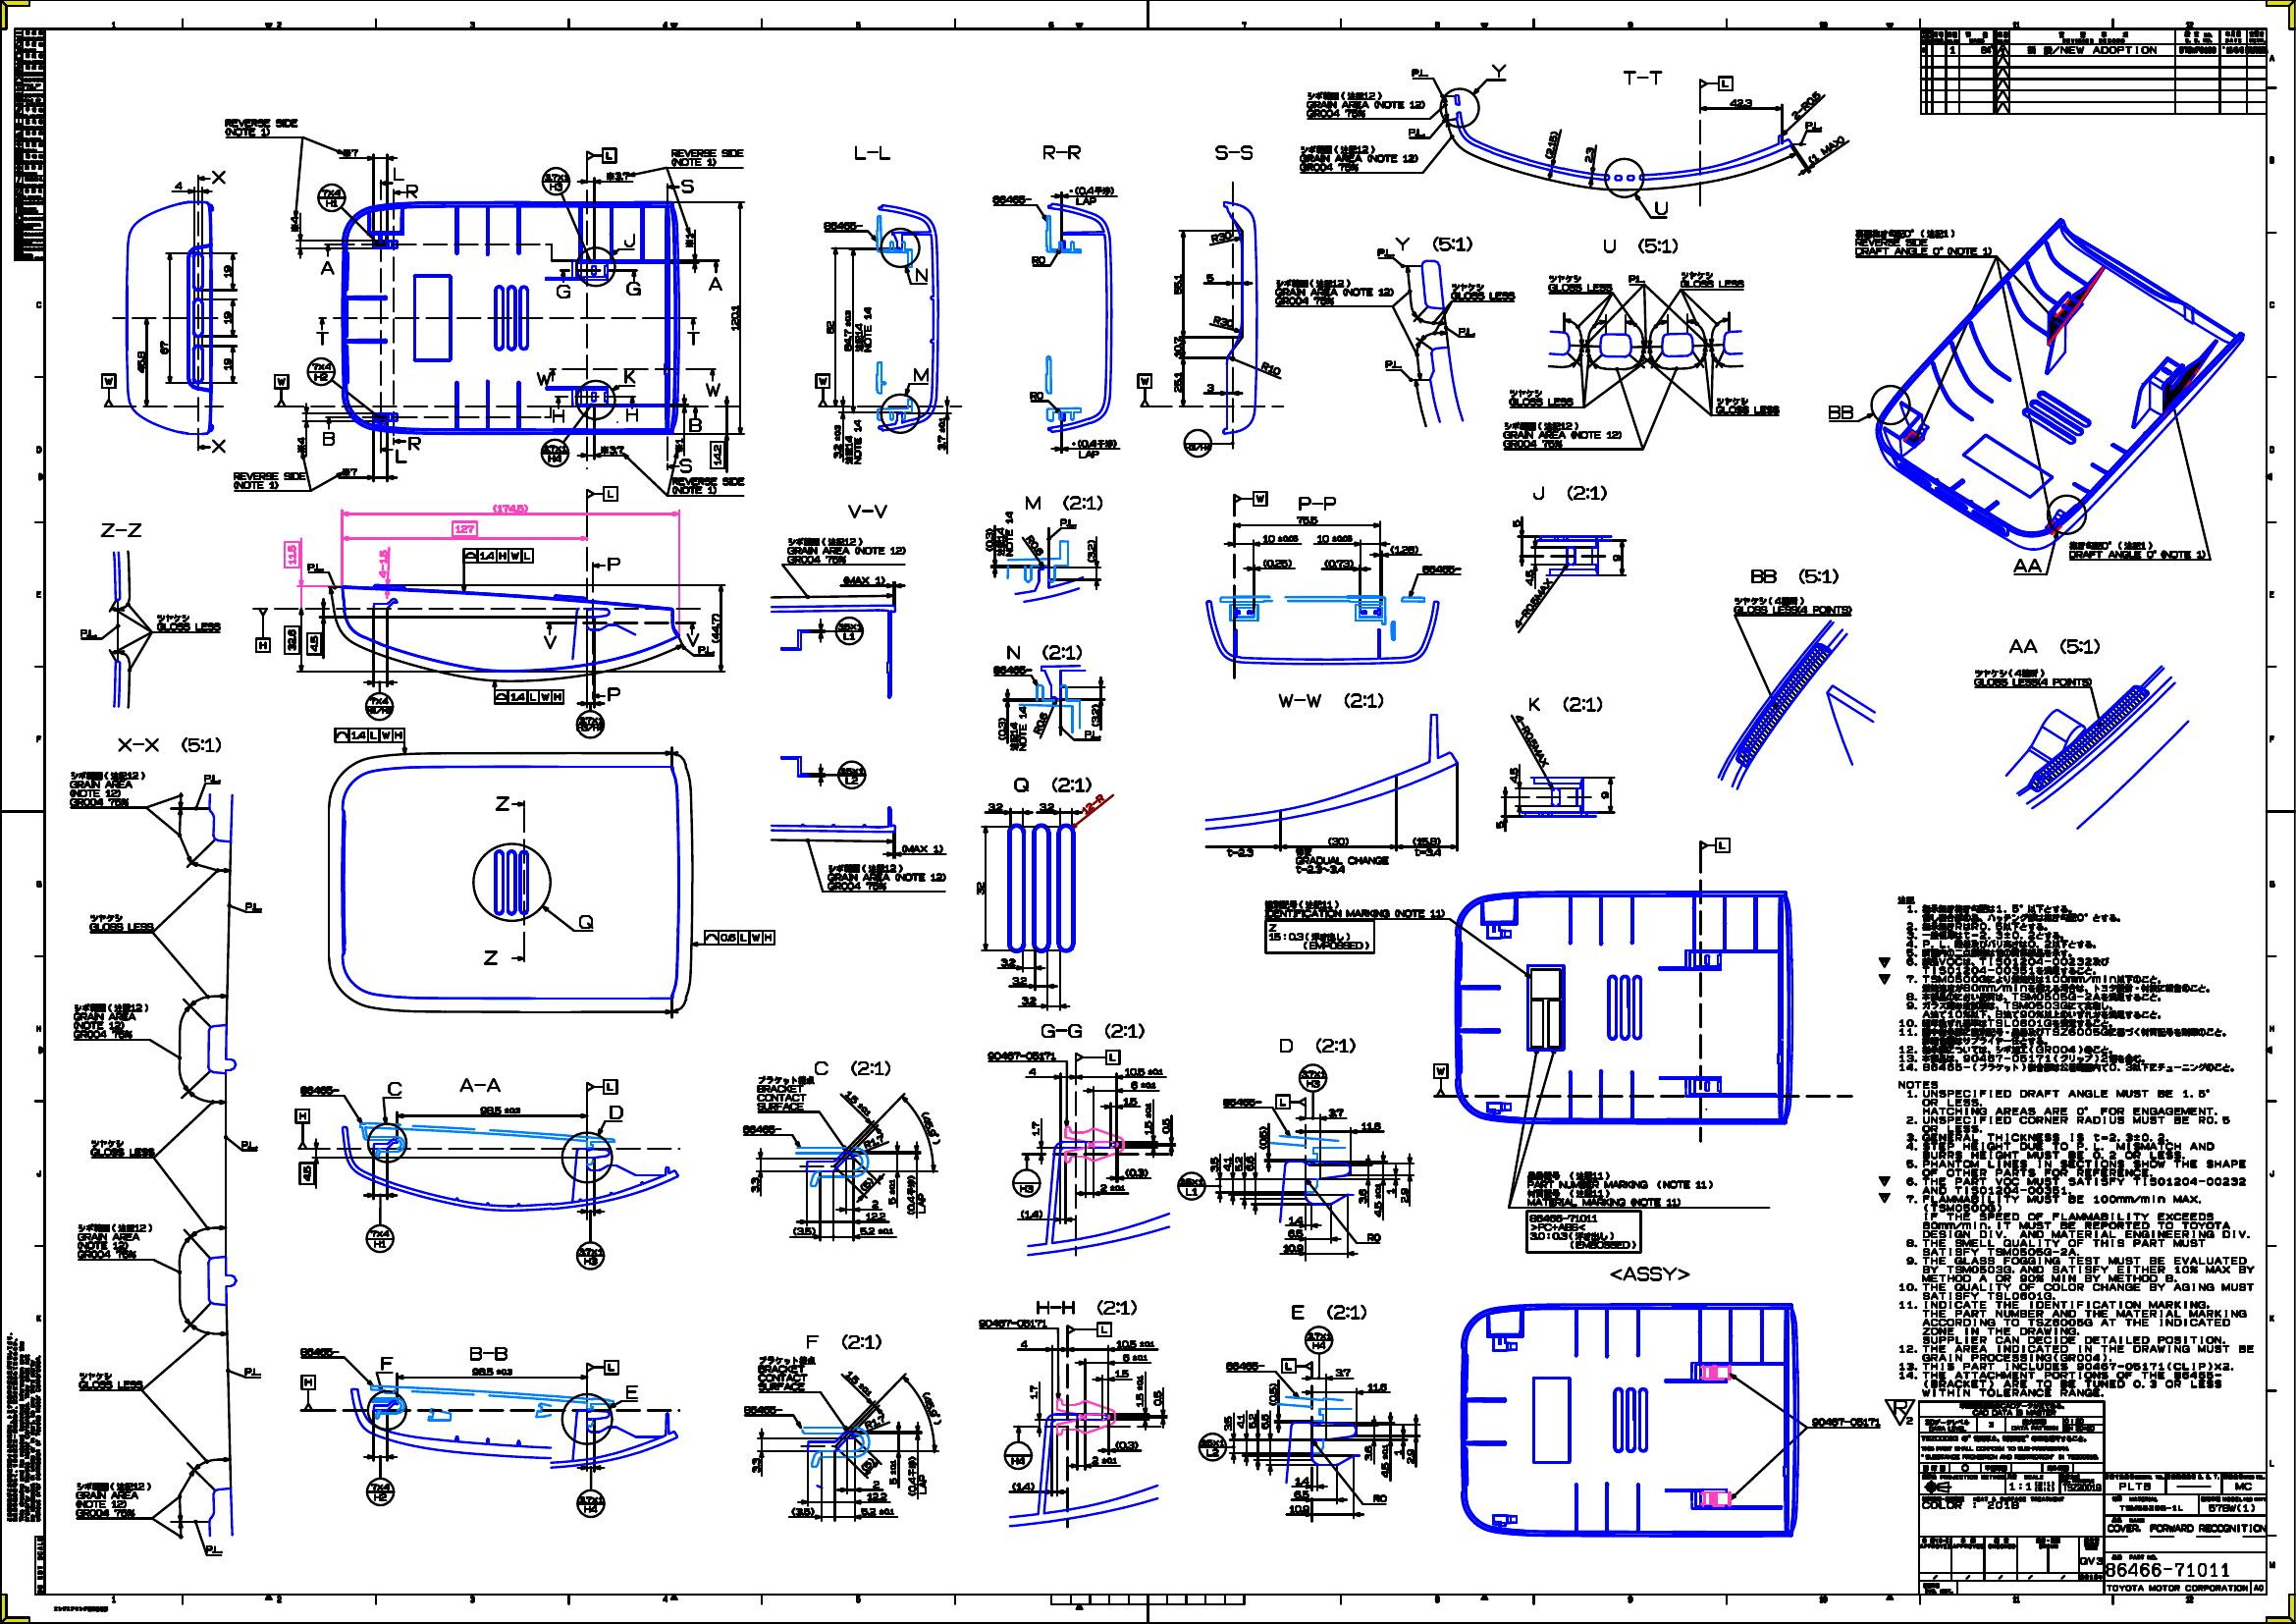anntotation_text: (1874, 1076, 2259, 1397), (1874, 891, 2240, 1074), (1525, 1169, 1718, 1207), (5, 1329, 42, 1522), (1525, 1211, 1641, 1251), (1853, 227, 1994, 257), (1265, 898, 1448, 919), (824, 861, 947, 891), (1274, 278, 1393, 308), (785, 536, 906, 564), (1298, 144, 1419, 172), (1305, 90, 1426, 118), (1265, 921, 1372, 953), (1502, 422, 1625, 448), (74, 1478, 151, 1519), (77, 1220, 155, 1260), (69, 768, 148, 807), (72, 1002, 149, 1039), (2068, 540, 2206, 559), (1291, 847, 1391, 874), (1971, 666, 2094, 687), (1732, 594, 1852, 615), (1038, 1019, 1147, 1042), (114, 735, 221, 758), (755, 1353, 815, 1392), (755, 1076, 815, 1111), (1279, 691, 1383, 710), (1035, 1297, 1137, 1316), (1748, 564, 1839, 585), (2004, 638, 2103, 657), (1391, 232, 1474, 255), (1022, 492, 1103, 515), (1525, 692, 1606, 715), (669, 146, 745, 169), (812, 1058, 892, 1079), (1005, 642, 1084, 663), (805, 1332, 884, 1353), (1607, 1264, 1693, 1283), (1532, 483, 1607, 504), (223, 116, 299, 137), (1288, 1302, 1368, 1322), (1602, 237, 1679, 257), (230, 471, 307, 490), (1008, 775, 1093, 793), (1275, 1037, 1356, 1055), (88, 910, 155, 932), (1449, 281, 1516, 302), (671, 476, 743, 496), (1507, 388, 1581, 406), (1715, 395, 1781, 415), (1679, 269, 1746, 288), (462, 547, 534, 564), (1548, 272, 1613, 292), (304, 350, 336, 388), (155, 613, 221, 631), (1066, 185, 1121, 206), (77, 1371, 142, 1388), (90, 1139, 155, 1156), (332, 726, 404, 742), (1068, 438, 1121, 459), (704, 928, 775, 944), (1007, 705, 1029, 752), (905, 1174, 929, 1218), (833, 613, 866, 645), (1296, 1062, 1330, 1093), (836, 758, 870, 789), (360, 691, 395, 721), (1883, 1396, 1915, 1427), (541, 163, 571, 197), (1498, 735, 1569, 749), (996, 508, 1015, 559), (494, 689, 562, 703), (843, 417, 863, 466), (365, 1475, 395, 1506), (1010, 1167, 1040, 1199), (1808, 1415, 1883, 1427), (906, 1454, 928, 1497), (97, 522, 148, 540), (574, 708, 604, 738), (1003, 1439, 1033, 1469), (1175, 1171, 1205, 1200), (364, 1222, 393, 1251), (318, 181, 346, 213), (574, 1489, 606, 1517), (986, 1048, 1058, 1060), (854, 306, 873, 352), (1295, 494, 1339, 513), (1182, 429, 1212, 457), (539, 438, 569, 466), (1196, 1432, 1226, 1461), (576, 1241, 606, 1269), (845, 501, 891, 518), (1621, 69, 1667, 86), (1305, 1325, 1333, 1353), (1214, 144, 1254, 163), (1042, 142, 1082, 162), (852, 142, 892, 162), (458, 1076, 499, 1095), (255, 606, 271, 652), (1075, 1049, 1119, 1065), (1502, 598, 1563, 608), (899, 840, 945, 854), (741, 1403, 787, 1417), (978, 1318, 1049, 1327), (469, 1346, 508, 1362), (53, 1603, 109, 1613), (1068, 1322, 1110, 1336), (841, 573, 887, 585), (272, 371, 288, 406), (2013, 555, 2041, 575), (1806, 144, 1850, 156), (100, 373, 116, 406), (35, 1536, 44, 1596), (991, 193, 1033, 206), (300, 1374, 314, 1411), (1825, 404, 1857, 420), (585, 148, 617, 163), (1421, 562, 1462, 575), (822, 220, 863, 232), (295, 1109, 307, 1149), (815, 374, 829, 408), (587, 1360, 620, 1374), (297, 1083, 341, 1093), (299, 1346, 341, 1357), (1699, 838, 1730, 852), (1433, 1063, 1448, 1095), (741, 1123, 783, 1134), (1233, 490, 1268, 503), (991, 664, 1031, 675), (1224, 1360, 1265, 1371), (1223, 1097, 1263, 1107), (587, 1079, 617, 1093), (1699, 77, 1732, 90), (1138, 373, 1151, 406), (587, 487, 618, 499), (1281, 1359, 1312, 1371), (1275, 1093, 1307, 1106), (481, 947, 501, 967), (1651, 199, 1672, 216), (320, 257, 336, 279), (1490, 62, 1509, 79), (620, 367, 638, 387), (211, 167, 228, 186), (376, 1355, 393, 1374), (608, 1102, 625, 1121), (578, 910, 596, 930), (494, 793, 511, 812), (706, 274, 724, 292), (320, 429, 337, 446), (244, 898, 264, 914), (703, 381, 722, 397), (390, 163, 406, 183), (624, 1383, 639, 1403), (541, 634, 559, 650), (913, 366, 929, 383), (534, 371, 552, 387), (211, 436, 227, 453), (622, 230, 636, 250), (242, 1366, 264, 1378), (79, 626, 100, 638), (1383, 359, 1404, 371), (1409, 67, 1430, 79), (604, 555, 620, 571), (687, 417, 703, 432), (557, 283, 573, 299), (313, 329, 329, 344), (604, 685, 622, 700), (680, 178, 694, 195), (627, 279, 641, 297), (239, 1139, 262, 1149), (304, 562, 327, 573), (1058, 517, 1077, 529), (625, 406, 638, 425), (204, 1543, 225, 1554), (202, 772, 223, 782), (1082, 728, 1103, 738), (1456, 325, 1477, 336), (1627, 272, 1648, 283), (1407, 127, 1428, 137), (913, 267, 928, 283), (552, 408, 566, 424), (406, 436, 422, 450), (406, 183, 420, 199), (388, 1079, 402, 1095), (395, 448, 408, 466), (1375, 246, 1395, 257), (687, 633, 701, 647), (687, 330, 701, 344), (1806, 120, 1822, 130), (680, 457, 690, 473), (696, 647, 715, 652)
dimension_text: (708, 439, 727, 469), (841, 306, 852, 355), (469, 1366, 516, 1376), (1377, 1441, 1390, 1480), (492, 501, 531, 513), (283, 626, 299, 656), (710, 610, 722, 647), (859, 1504, 894, 1517), (480, 1104, 520, 1114), (1123, 1067, 1163, 1077), (1260, 533, 1300, 543), (1314, 533, 1354, 543), (936, 413, 947, 453), (285, 541, 300, 568), (1133, 1373, 1145, 1406), (1077, 798, 1110, 810), (857, 1225, 896, 1236), (912, 1401, 950, 1411), (1788, 98, 1827, 109), (833, 424, 843, 462), (838, 1098, 875, 1109), (376, 548, 388, 580), (924, 1111, 935, 1146), (299, 1162, 316, 1183), (1372, 1183, 1383, 1218), (885, 1178, 898, 1207), (1546, 130, 1558, 160), (453, 520, 476, 536), (307, 633, 323, 656), (1116, 1338, 1156, 1346), (1223, 847, 1256, 858), (1321, 557, 1354, 568), (1411, 847, 1442, 858), (1411, 835, 1442, 845), (791, 1225, 817, 1237), (1116, 1438, 1142, 1450), (1010, 1480, 1036, 1492), (1017, 1206, 1043, 1218), (840, 1378, 877, 1387), (1256, 1125, 1268, 1151), (1084, 538, 1096, 564), (748, 1172, 762, 1195), (1126, 1077, 1156, 1088), (1390, 545, 1419, 555), (1172, 334, 1182, 364), (791, 1504, 815, 1517), (1123, 1165, 1147, 1178), (1172, 272, 1184, 297), (1233, 1413, 1247, 1434), (1263, 557, 1291, 568), (1207, 230, 1235, 241), (1144, 1100, 1152, 1134), (863, 1137, 885, 1149), (1288, 1501, 1310, 1513), (1326, 835, 1349, 847), (1091, 1454, 1117, 1464), (1100, 1183, 1126, 1193), (887, 1459, 898, 1485), (996, 715, 1007, 742), (1036, 708, 1047, 735), (1729, 97, 1755, 107), (604, 169, 631, 179), (731, 302, 740, 334), (1281, 1243, 1305, 1253), (1360, 1120, 1381, 1132), (1172, 371, 1182, 395), (1121, 1352, 1149, 1360), (987, 800, 1005, 814), (597, 445, 625, 453), (1267, 1383, 1277, 1406), (863, 1418, 885, 1429), (1356, 1185, 1367, 1207), (1214, 316, 1237, 327), (135, 350, 146, 373), (1151, 1388, 1163, 1408), (1361, 1443, 1374, 1462), (1507, 765, 1520, 784), (1583, 146, 1595, 165), (683, 230, 696, 250), (293, 434, 306, 453), (1029, 533, 1038, 559), (1295, 515, 1321, 524), (1026, 1385, 1040, 1401), (1221, 1411, 1231, 1432), (1284, 1227, 1305, 1237), (1008, 974, 1029, 984), (288, 211, 299, 232), (1159, 1116, 1172, 1134), (1209, 1155, 1221, 1172), (1038, 801, 1056, 814), (1091, 701, 1100, 726), (1523, 568, 1535, 585), (1029, 253, 1047, 265), (1247, 1413, 1258, 1432), (1260, 1413, 1270, 1432), (1291, 1487, 1310, 1497), (1293, 1475, 1312, 1485), (1405, 1446, 1416, 1466), (750, 1455, 761, 1475), (824, 318, 834, 337), (673, 436, 683, 455), (866, 1492, 889, 1501), (1258, 364, 1281, 373), (339, 148, 362, 156), (1365, 1230, 1381, 1243), (859, 1179, 877, 1190), (866, 1211, 887, 1220), (1031, 1120, 1040, 1141), (1365, 1383, 1391, 1390), (1333, 1367, 1354, 1376), (998, 956, 1015, 967), (975, 877, 986, 895), (1028, 388, 1045, 399), (1372, 1490, 1386, 1503), (156, 339, 169, 353), (1245, 1155, 1254, 1174), (1400, 1185, 1409, 1204), (339, 468, 358, 476), (1114, 1367, 1130, 1378), (859, 1459, 875, 1469), (1233, 1155, 1244, 1171), (1288, 1214, 1303, 1225), (221, 355, 232, 371), (221, 308, 232, 323), (221, 262, 232, 278), (1026, 1065, 1038, 1077), (1599, 789, 1611, 801), (1509, 517, 1521, 529), (870, 1195, 880, 1209), (1123, 1095, 1137, 1106), (1223, 1156, 1233, 1171), (1328, 1107, 1344, 1116), (1021, 995, 1036, 1004), (1391, 1445, 1404, 1455), (1493, 817, 1504, 830), (1205, 380, 1216, 392), (1019, 1339, 1029, 1350), (1611, 552, 1621, 562), (1205, 272, 1216, 283), (871, 1478, 880, 1489), (174, 179, 183, 190), (1384, 1186, 1395, 1193)
object: (1873, 218, 2245, 554), (327, 752, 692, 1014), (1453, 889, 1794, 1127), (1458, 1302, 1799, 1538), (341, 202, 680, 434), (329, 587, 683, 680), (2001, 663, 2191, 831), (341, 1120, 678, 1213), (1451, 93, 1794, 185), (1203, 712, 1458, 831), (1716, 619, 1876, 791), (348, 1385, 676, 1468), (206, 796, 237, 1534), (125, 202, 214, 439), (1008, 1396, 1159, 1526), (1028, 1123, 1172, 1255), (1205, 596, 1440, 666), (1042, 204, 1112, 432), (875, 202, 940, 431), (769, 605, 892, 700), (769, 752, 894, 835), (1005, 823, 1075, 953), (1221, 199, 1258, 434), (1265, 1134, 1353, 1223), (1418, 258, 1465, 422), (1275, 1396, 1360, 1468), (1551, 330, 1741, 359), (1007, 538, 1082, 605), (1021, 663, 1087, 733), (109, 548, 132, 705), (1514, 777, 1599, 817), (1532, 534, 1613, 576), (801, 1424, 871, 1469), (798, 1144, 868, 1186)
title_block: (1917, 1399, 2266, 1596), (1920, 28, 2266, 114), (16, 30, 44, 258)
